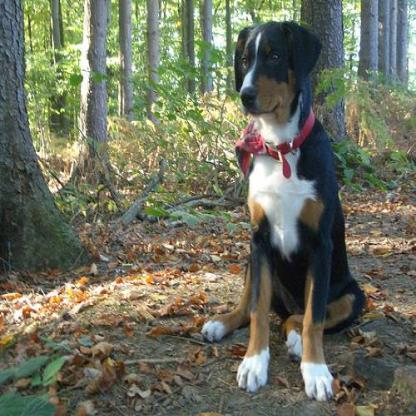Appenzeller: (200, 19, 365, 401)
